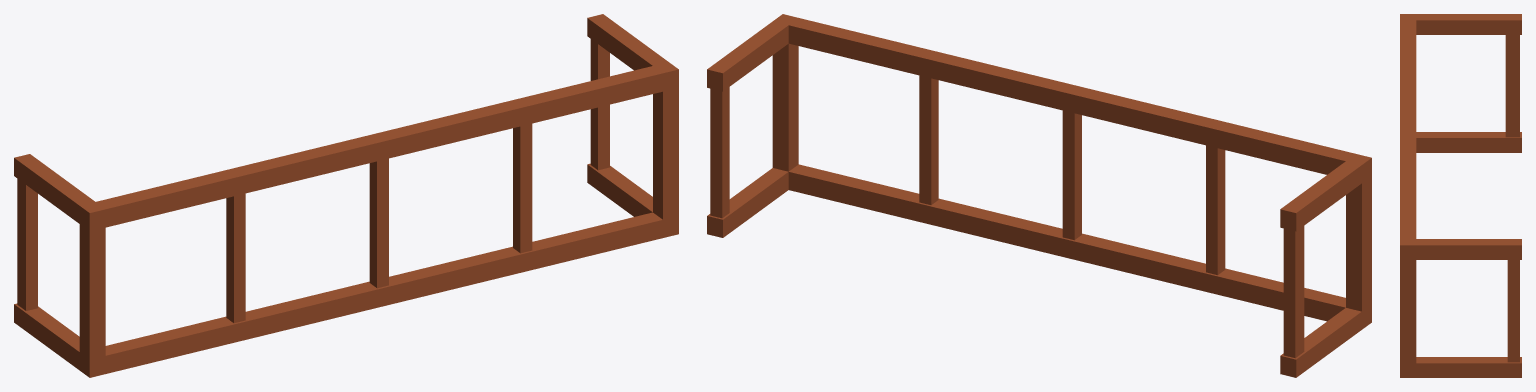
Rendered from Prop_Fantasy_Wooden_Timber_Railing_Box_01.FBX.
The picture shows the model from 3 angles, left to right: view 1: azimuth 30°, elevation 25°; view 2: azimuth 150°, elevation 25°; view 3: azimuth 270°, elevation 25°; orthographic projection. The views are drawn at different scales.
Parts seen in each view (by area): view 1: Prop_Fantasy_Wooden_Timber_Railing_Box_01; view 2: Prop_Fantasy_Wooden_Timber_Railing_Box_01; view 3: Prop_Fantasy_Wooden_Timber_Railing_Box_01.
Part boxes in pixels (<box>): Prop_Fantasy_Wooden_Timber_Railing_Box_01: <box>14,14,678,377</box>; Prop_Fantasy_Wooden_Timber_Railing_Box_01: <box>707,14,1371,377</box>; Prop_Fantasy_Wooden_Timber_Railing_Box_01: <box>1400,14,1521,377</box>.
Size of the model in its own units: 3460 by 925 by 771.
